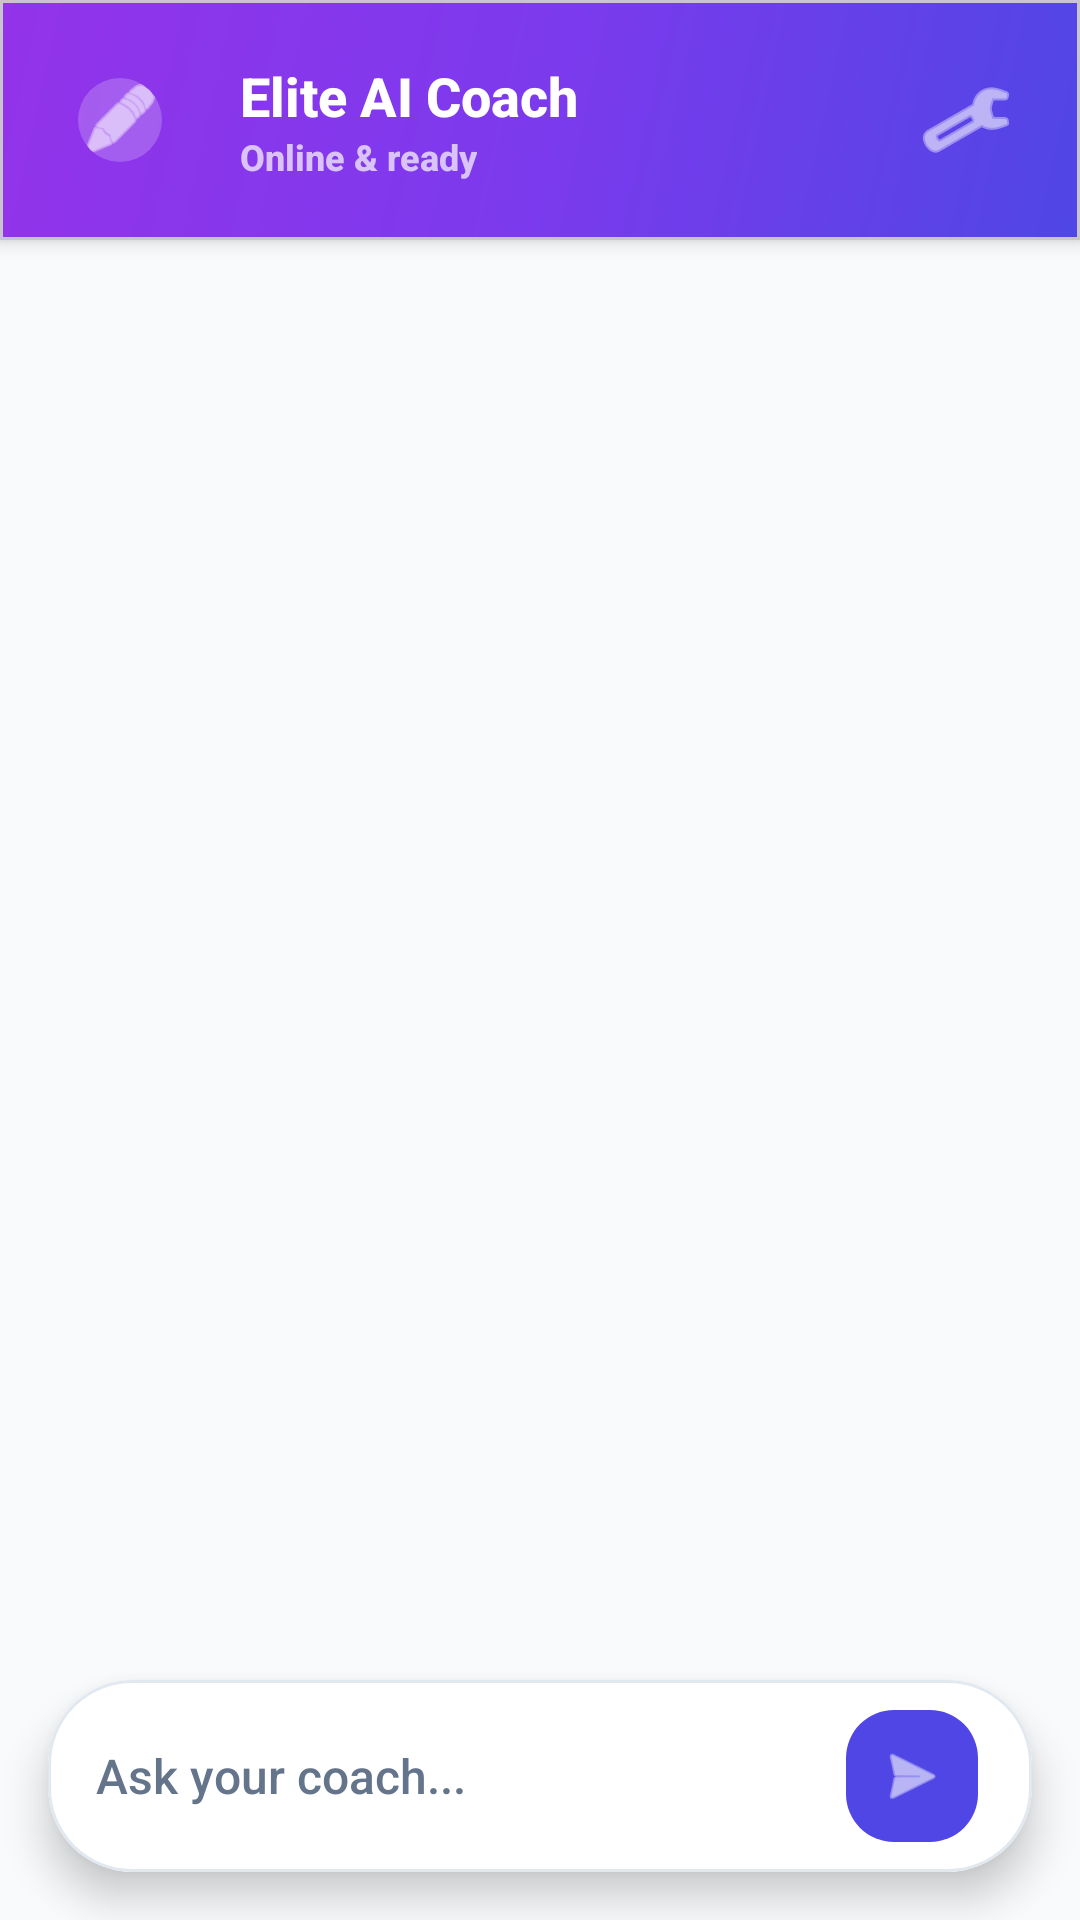

Where icons sit on this 1080px x 1920px app screen, as region(x1, y1, x2, y2):
edit: region(78, 78, 162, 162)
manage: region(923, 87, 1009, 153)
send: region(846, 1710, 978, 1842)
